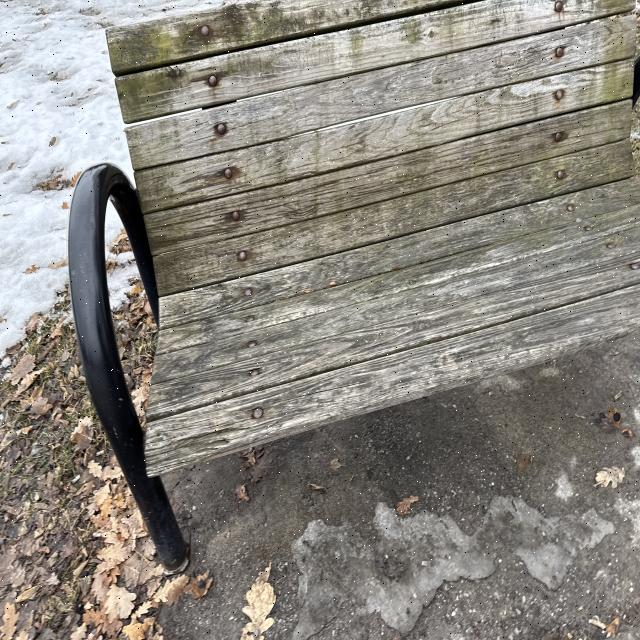Bench: (49, 13, 640, 547)
